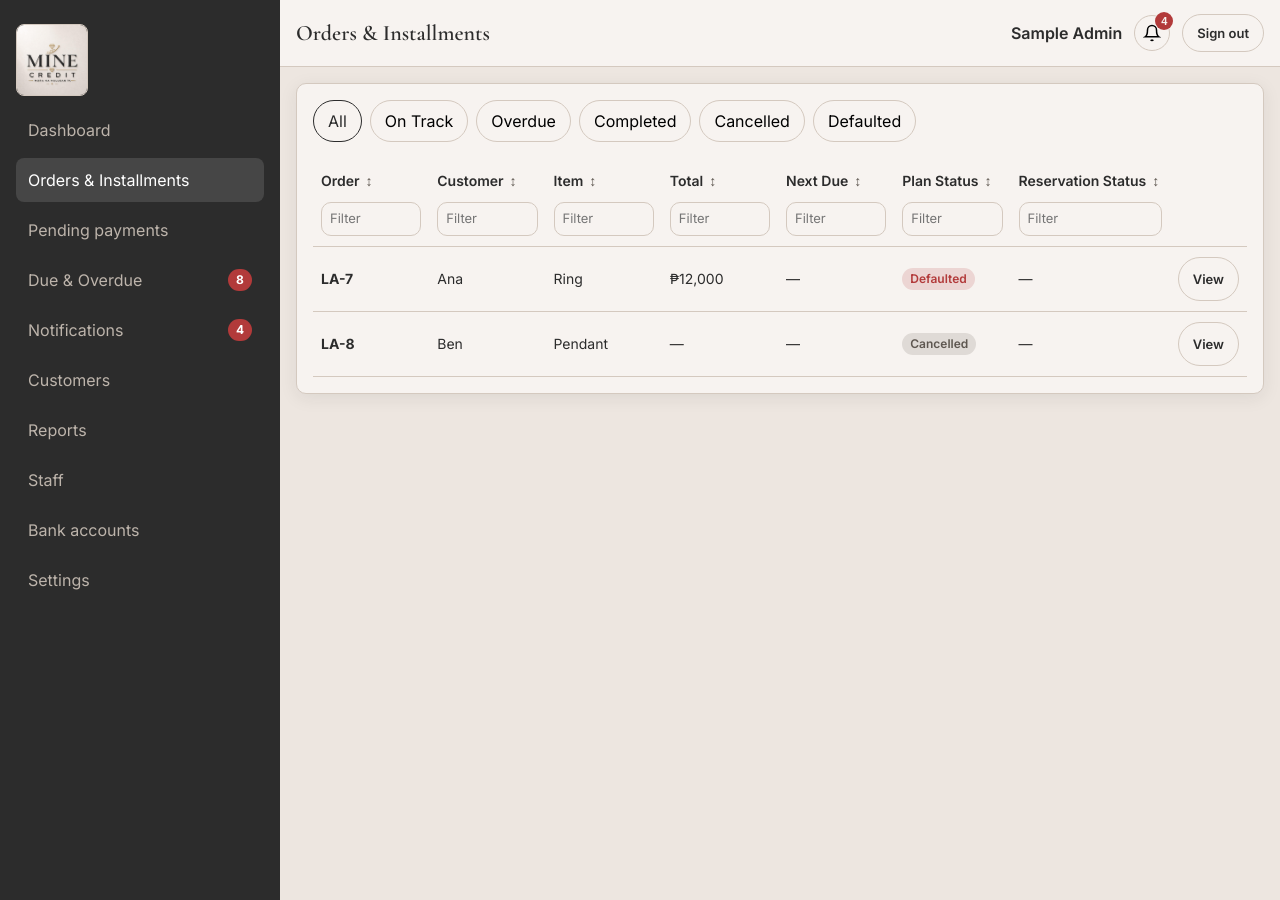
Test: admin orders › shows total in the table and plan money details in the modal
The image size is (1280, 900).
Expected: the text "LA-7" is shown, [321, 270, 353, 287]
Expected: the column heading "Total ↕" is shown, [662, 154, 778, 246]
Click the button "View" in the row of "LA-7" at point(1208, 278), box [1178, 256, 1239, 300]
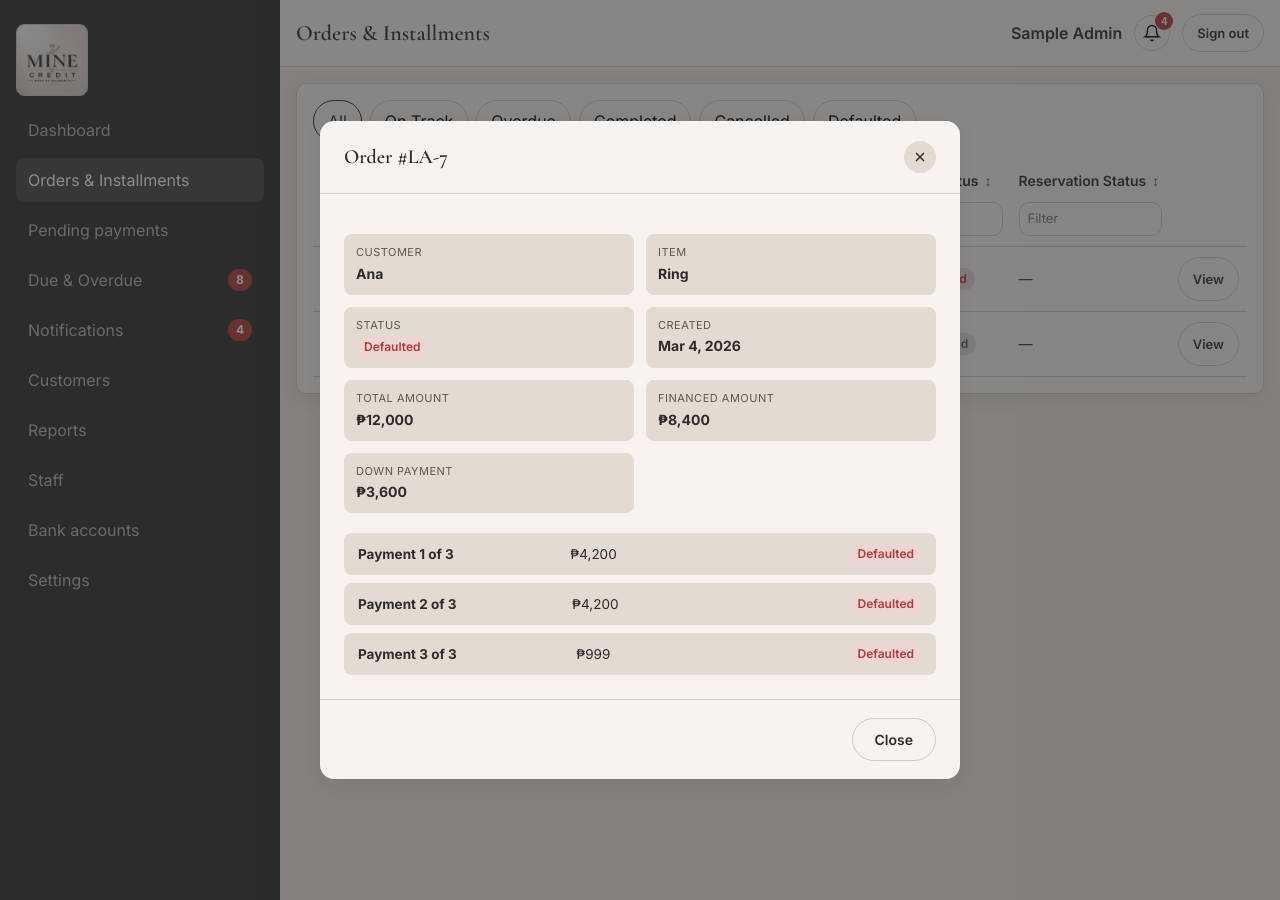
Expected: the text "Mar 4, 2026" is shown, [658, 337, 741, 354]
Expected: the text "₱12,000" is shown, [356, 410, 414, 428]
Expected: the text "₱8,400" is shown, [658, 410, 710, 428]
